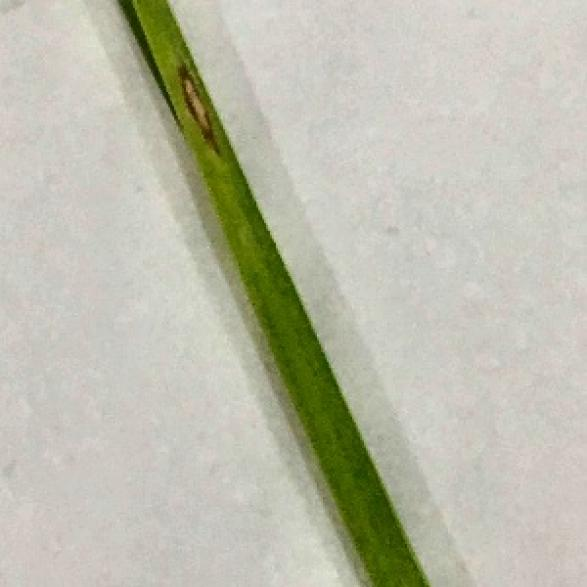Leaf_smut: (162, 57, 244, 160)
